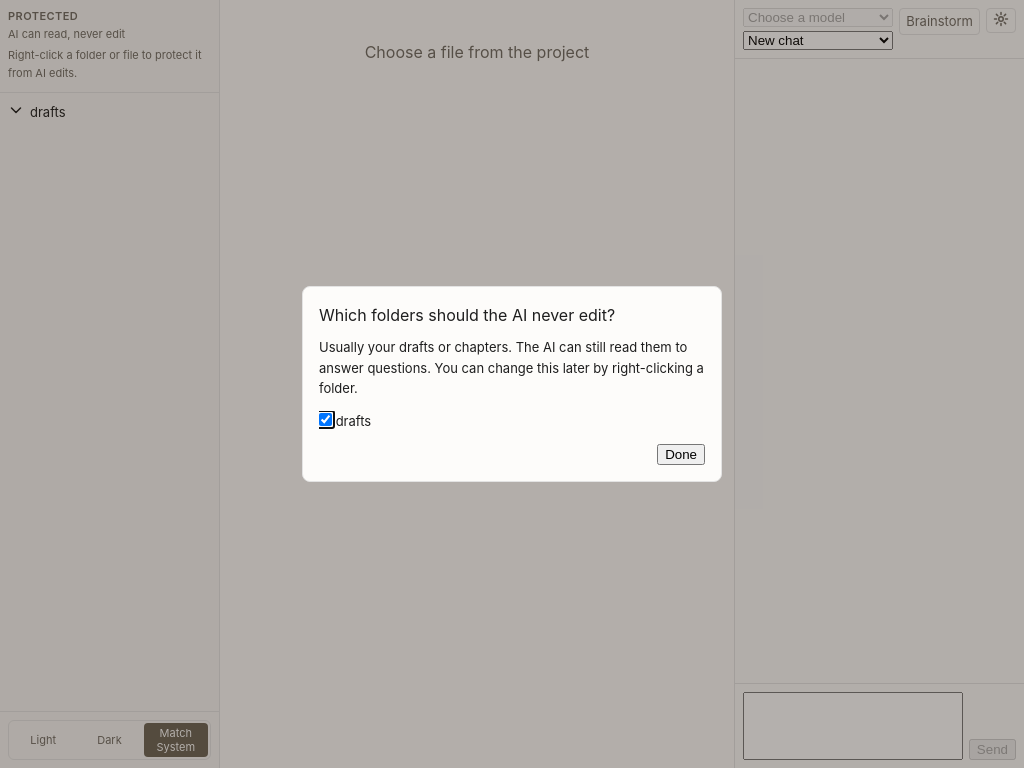
Scenario: keeps the dialog open and shows the error inside it when saving protected folders fails
Click the button "Done": x=681, y=454 [657,444,705,465]
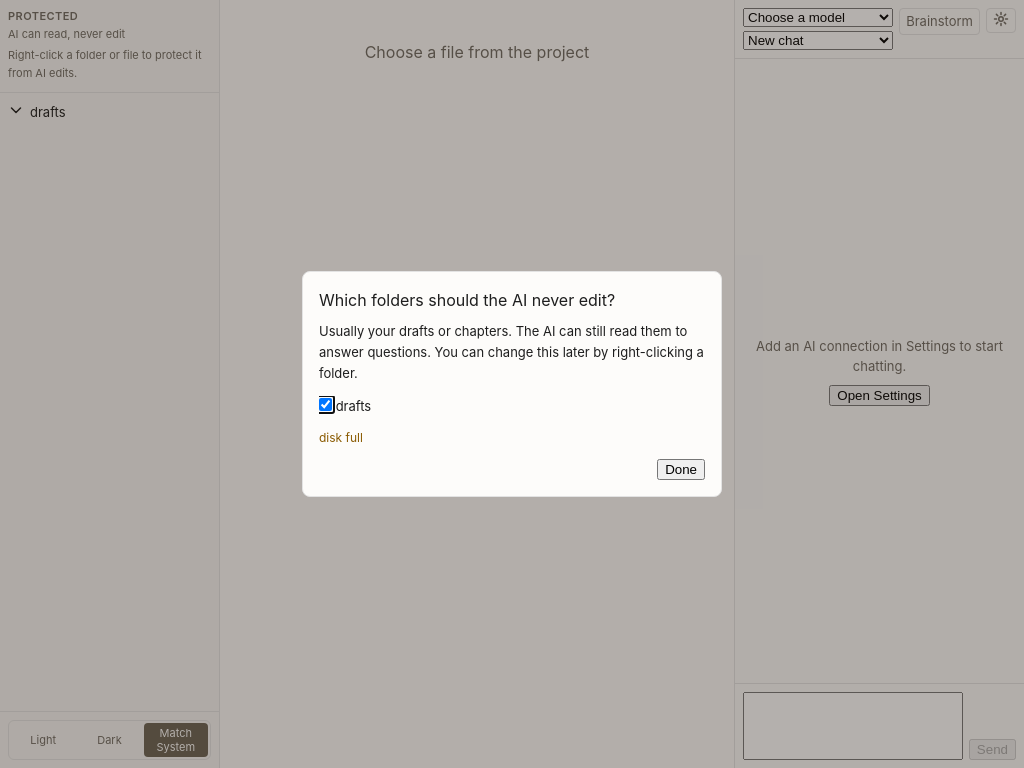
Expected: the message reads "disk full", [319,430,363,445]
Expected: the text "disk full" is shown once, [319,430,363,445]
Click the button "Done": x=681, y=470 [657,460,705,480]
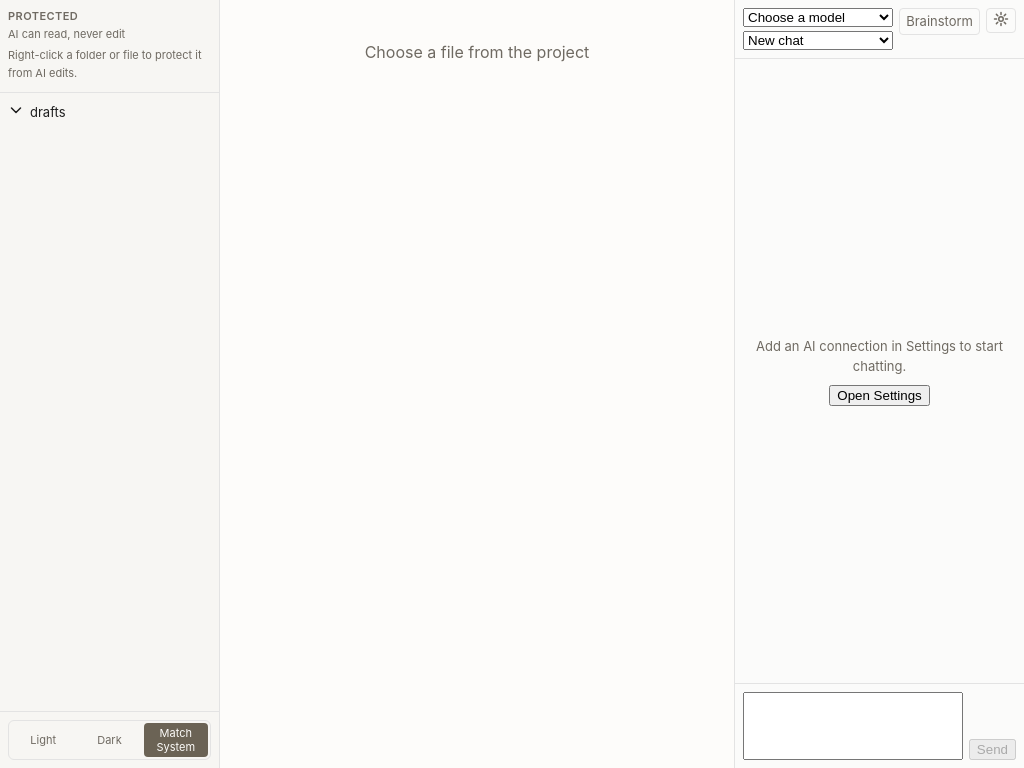
Expected: the message "disk full" is gone
Expected: the dialog is gone
